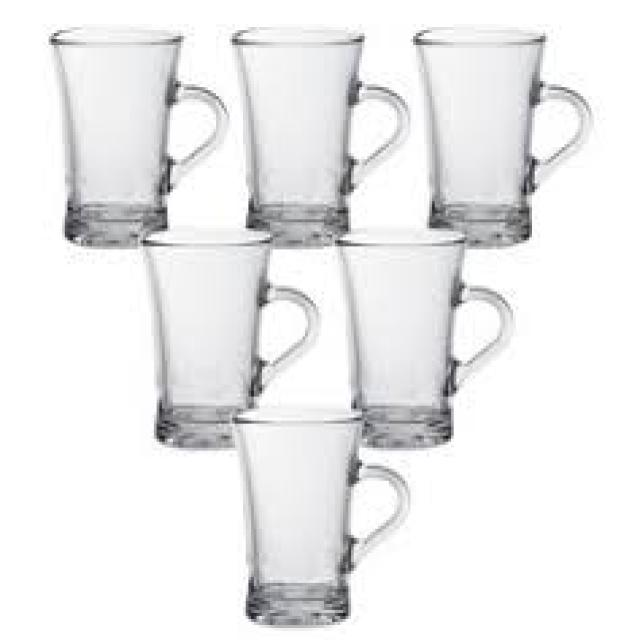glass: (332, 219, 513, 442), (49, 21, 224, 246), (140, 225, 316, 445), (413, 21, 589, 240), (230, 24, 408, 240), (232, 406, 405, 622)
